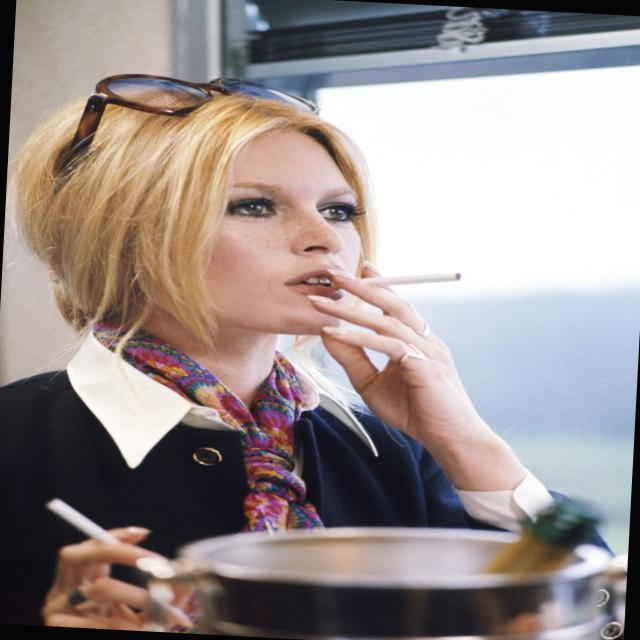smoke: (369, 259, 472, 292)
